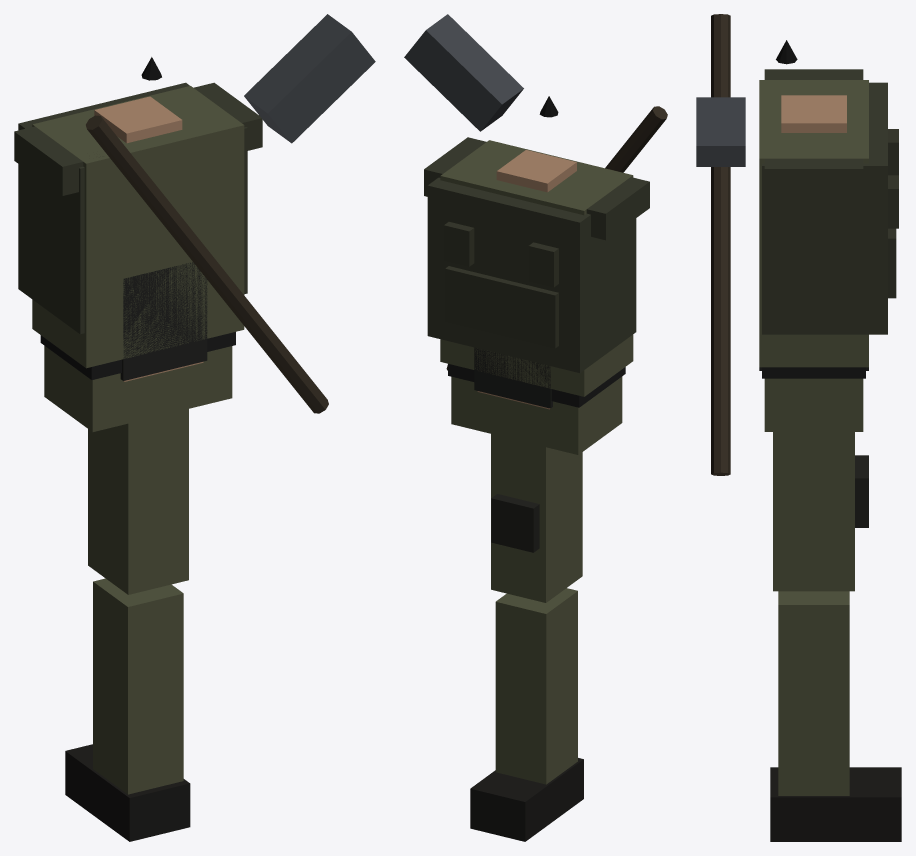
Rendered from operator_sledge.glb.
The picture shows the model from 3 angles, left to right: view 1: azimuth 30°, elevation 25°; view 2: azimuth 150°, elevation 25°; view 3: azimuth 270°, elevation 25°; orthographic projection. The views are drawn at different scales.
Parts seen in each view (by area): view 1: torso, legL, hips, head; view 2: torso, legL, hips, head; view 3: torso, legL, hips.
Boxes of the visible parts, box(x1,y1,x2,y2) form: torso: box(14, 14, 375, 413); legL: box(65, 409, 190, 841); hips: box(40, 332, 235, 431); head: box(120, 262, 207, 381); torso: box(404, 14, 667, 396); legL: box(470, 434, 583, 841); hips: box(448, 364, 625, 454); head: box(474, 347, 552, 409); torso: box(696, 14, 898, 475); legL: box(770, 432, 901, 841); hips: box(762, 367, 865, 431).
Bounding box in the file's own units: 0.6009 × 1.62 × 0.375.
